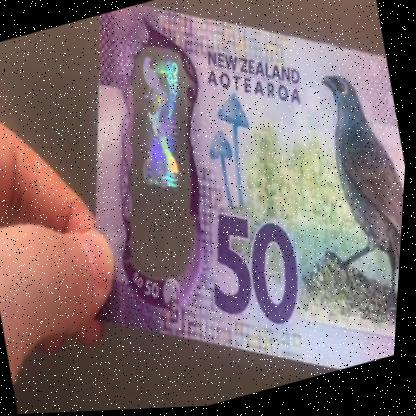50B: (109, 45, 227, 279)
